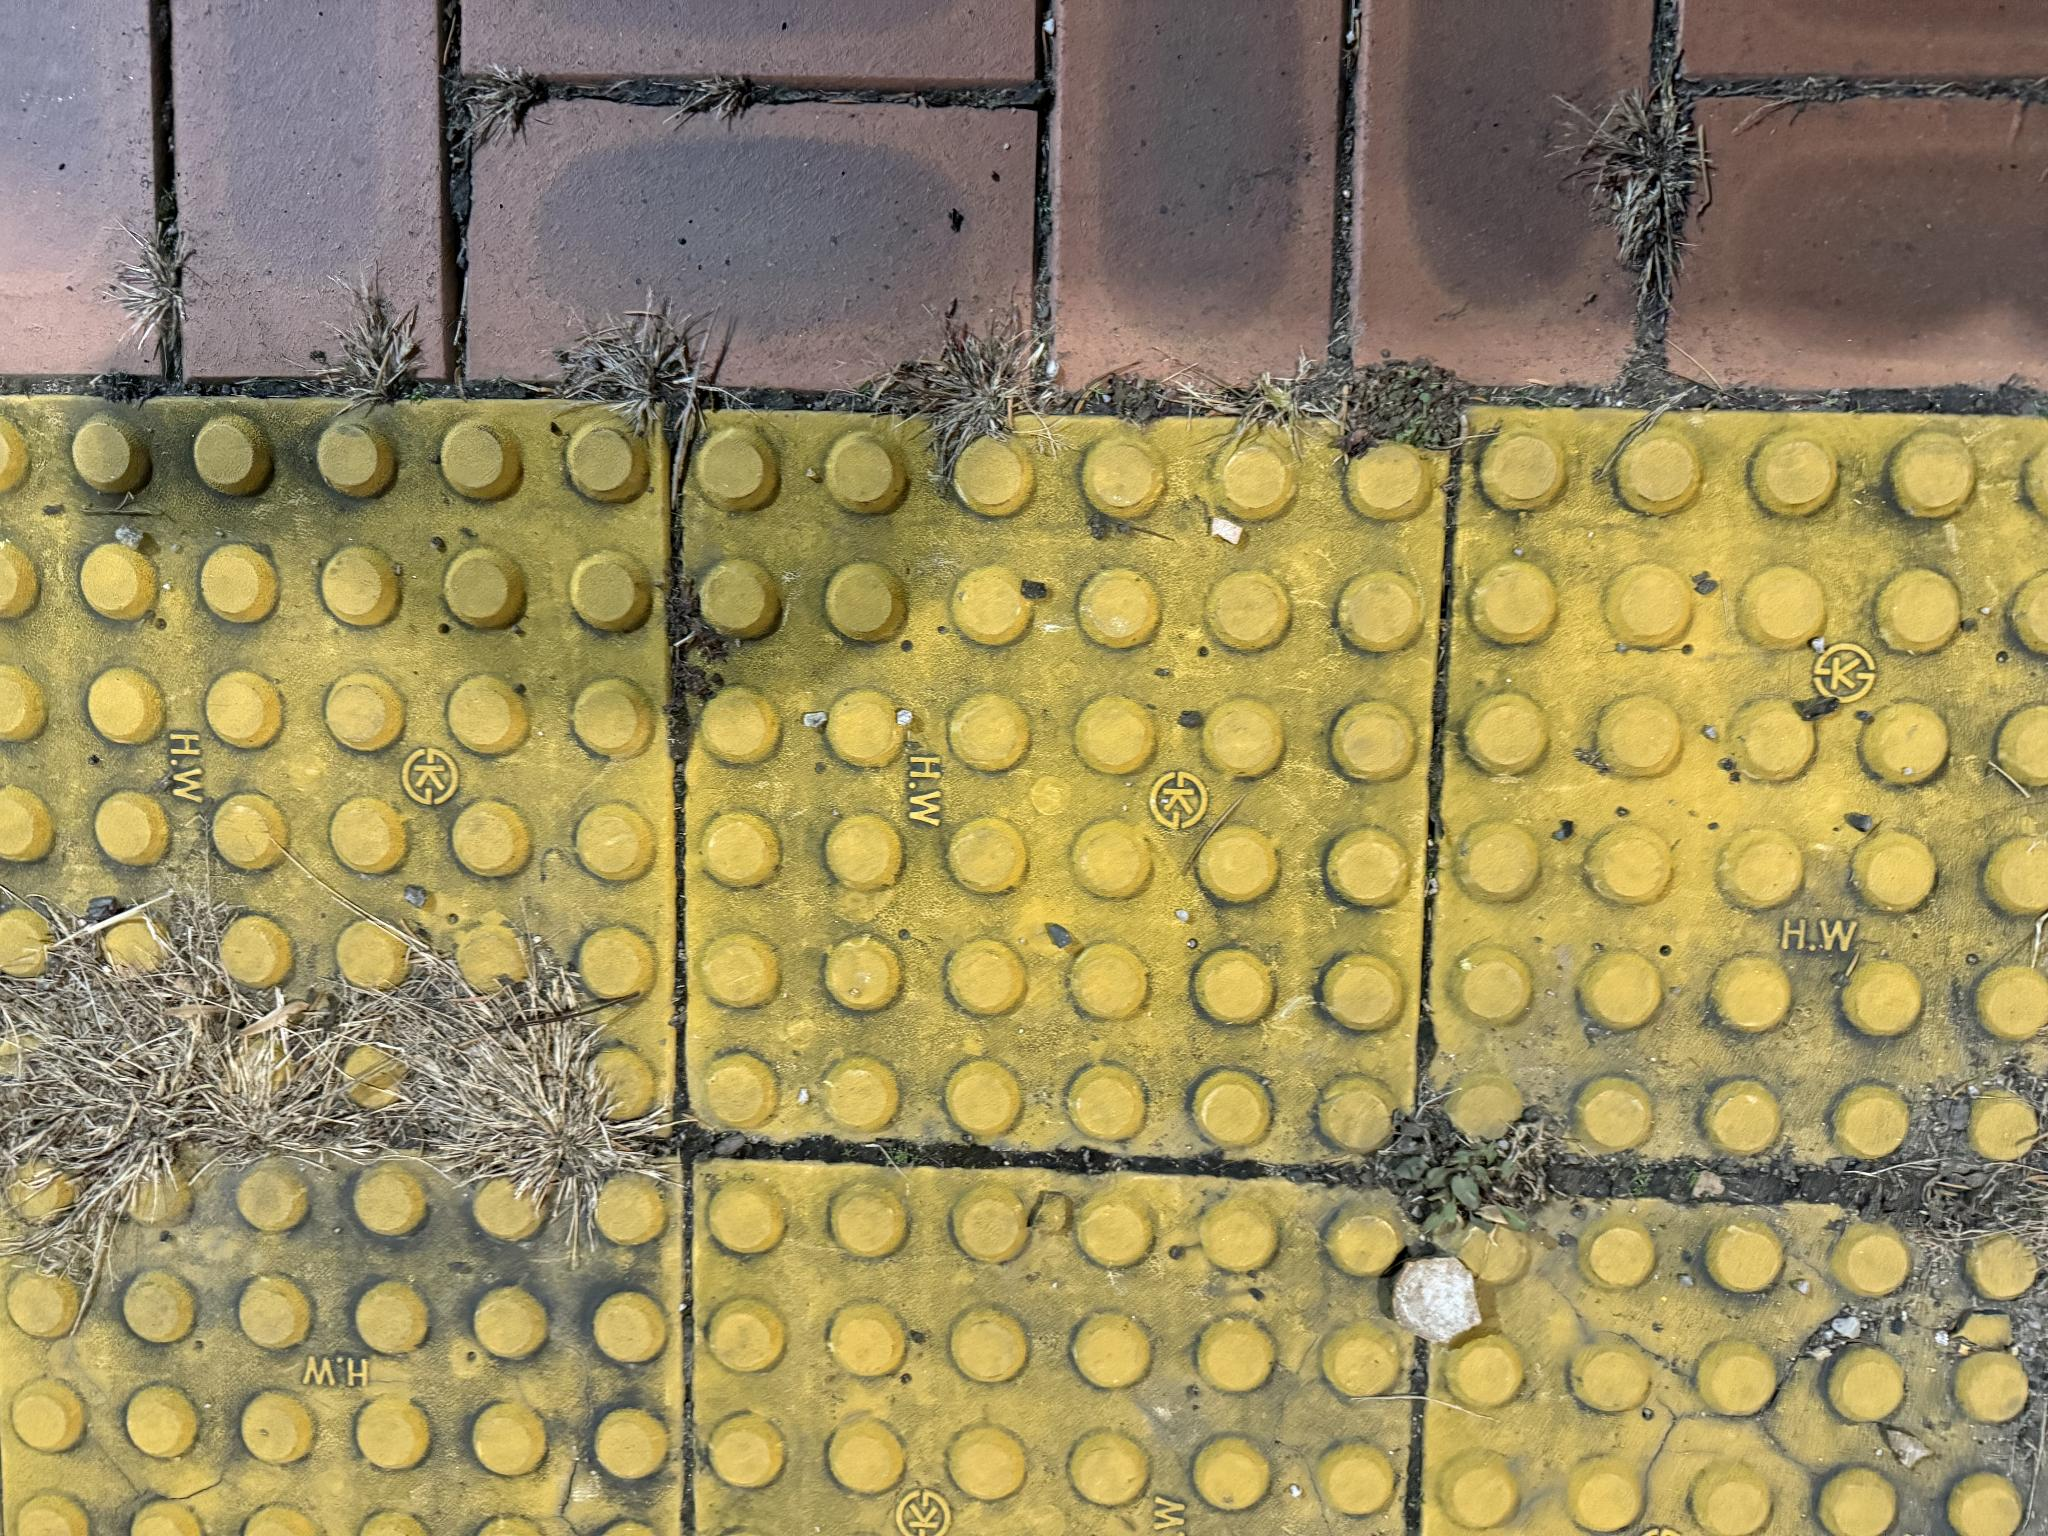Stop block normal: (403, 692, 1116, 1418)
